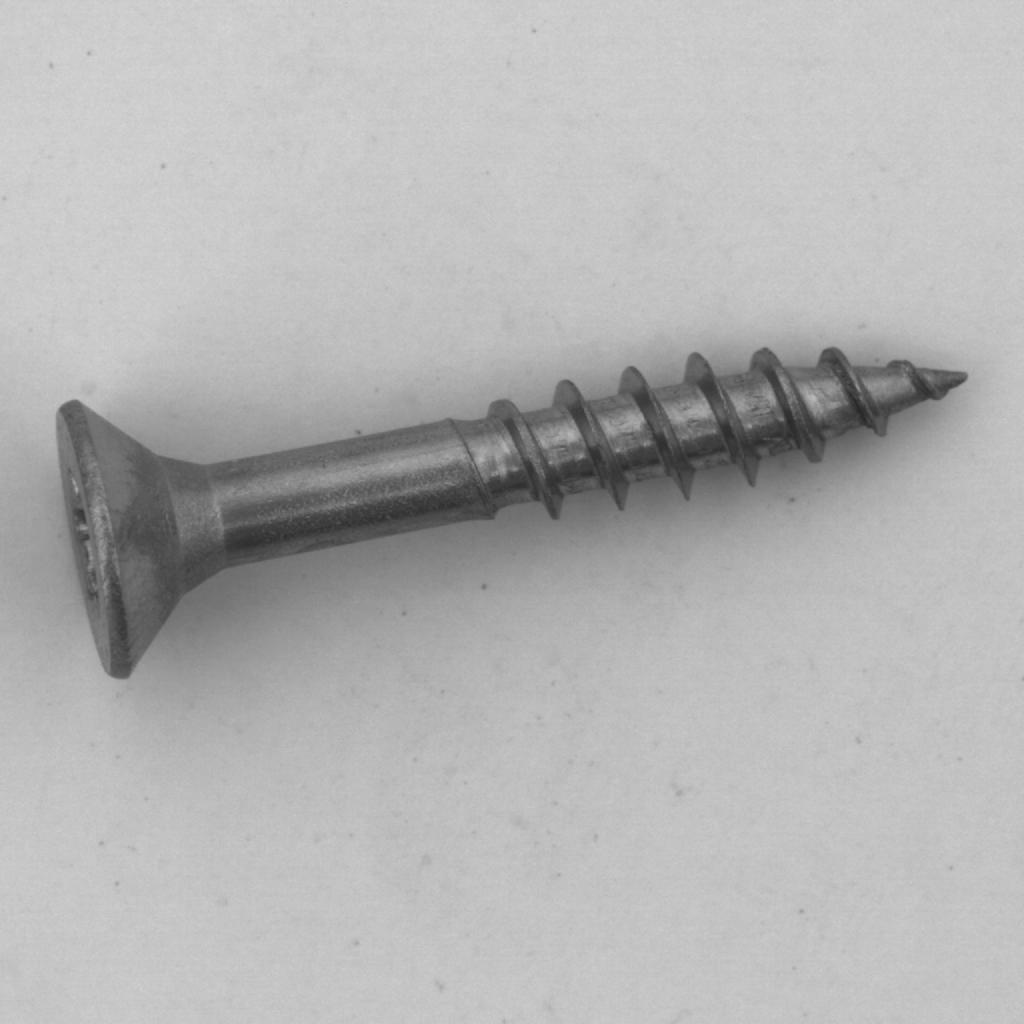good: (45, 317, 975, 694)
